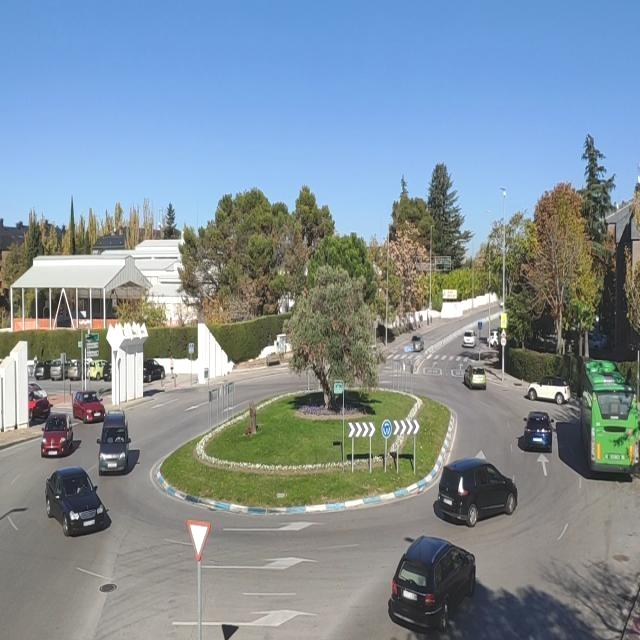Bus: (577, 356, 640, 476)
Car: (387, 536, 477, 628), (434, 458, 517, 528), (46, 468, 111, 534), (96, 410, 132, 472), (40, 413, 74, 457), (521, 412, 555, 451), (526, 376, 572, 404), (72, 390, 106, 423), (463, 364, 486, 390), (49, 358, 75, 381), (66, 358, 92, 381), (34, 359, 61, 380), (142, 359, 166, 382), (87, 360, 107, 381), (589, 332, 608, 352), (462, 331, 477, 348), (488, 329, 500, 348), (411, 335, 424, 352), (103, 360, 111, 382)
